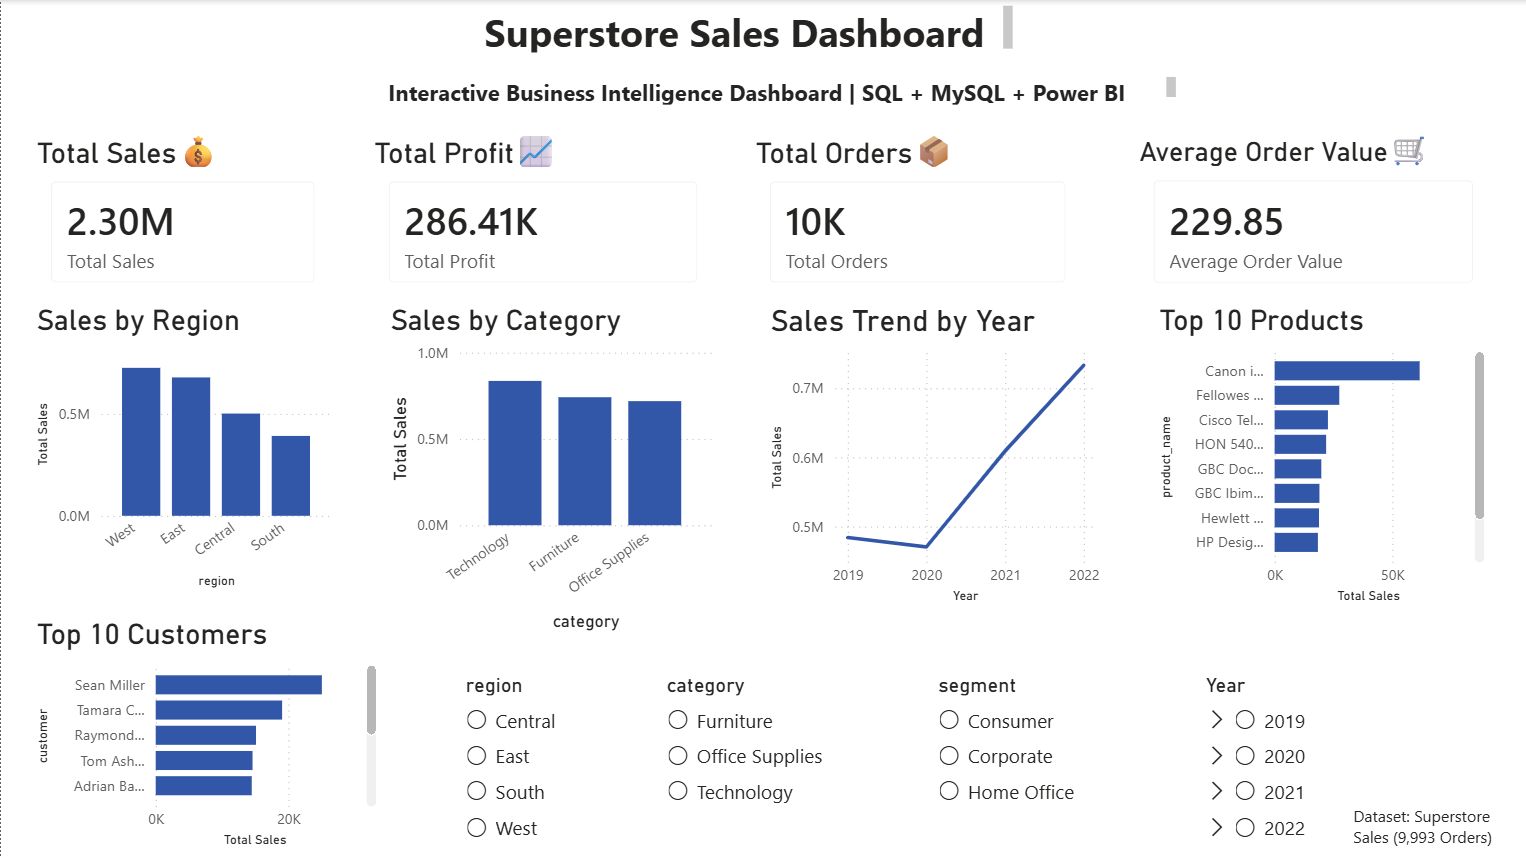

This screenshot's page, from the dashboard's own definition file:
{"tool":"powerbi","page":{"name":"Page 1","canvas":[1280,720],"ordinal":0},"visuals":[{"type":"cardVisual","title":"Total Sales","fields":{"Data":["cleaned_sales_dataSet.Total Sales"]},"box":[39.5,61.9,254.5,177.1],"z":0},{"type":"cardVisual","title":"Total Profit","fields":{"Data":["cleaned_sales_dataSet.Total Profit"]},"box":[319.8,61.9,282,149.6],"z":1000},{"type":"cardVisual","title":"Total Orders","fields":{"Data":["cleaned_sales_dataSet.Total Orders"]},"box":[622.5,58.5,282,149.6],"z":2000},{"type":"cardVisual","title":"Average Order Value","fields":{"Data":["cleaned_sales_dataSet.Average Order Value"]},"box":[949.2,58.5,300.9,158.2],"z":3000},{"type":"clusteredColumnChart","title":"Sales by Region","fields":{"Category":["cleaned_sales_dataSet.region"],"Y":["cleaned_sales_dataSet.Total Sales"]},"box":[25.4,237.9,257.3,243.9],"z":4000},{"type":"clusteredColumnChart","title":"Sales by Category","fields":{"Category":["cleaned_sales_dataSet.category"],"Y":["cleaned_sales_dataSet.Total Sales"]},"box":[321.6,237.9,279.8,279.8],"z":5000},{"type":"lineChart","title":"Sales Trend by Year","fields":{"Y":["cleaned_sales_dataSet.Total Sales"],"Category":["cleaned_sales_dataSet.order_date.Variation.Date Hierarchy.Year","cleaned_sales_dataSet.order_date.Variation.Date Hierarchy.Quarter","cleaned_sales_dataSet.order_date.Variation.Date Hierarchy.Month","cleaned_sales_dataSet.order_date.Variation.Date Hierarchy.Day"]},"box":[652.3,237.9,285.7,255.8],"z":6000},{"type":"clusteredBarChart","title":"Top 10 Products","fields":{"Category":["cleaned_sales_dataSet.product_name"],"Y":["cleaned_sales_dataSet.Total Sales"]},"box":[966.4,237.9,282.8,255.8],"z":7000},{"type":"clusteredBarChart","title":"Top 10 Customers","fields":{"Category":["cleaned_sales_dataSet.customer"],"Y":["cleaned_sales_dataSet.Total Sales"]},"box":[25.4,517.6,294.7,197.5],"z":8000},{"type":"listSlicer","fields":{"Values":["cleaned_sales_dataSet.region"]},"box":[381.5,543.1,103.2,172],"z":9000},{"type":"listSlicer","fields":{"Values":["cleaned_sales_dataSet.category"]},"box":[547.5,543.1,149.6,148.1],"z":10000},{"type":"listSlicer","fields":{"Values":["cleaned_sales_dataSet.segment"]},"box":[769,541.6,169.1,158.6],"z":11000},{"type":"listSlicer","fields":{"Values":["cleaned_sales_dataSet.order_date.Variation.Date Hierarchy.Year","cleaned_sales_dataSet.order_date.Variation.Date Hierarchy.Quarter","cleaned_sales_dataSet.order_date.Variation.Date Hierarchy.Month","cleaned_sales_dataSet.order_date.Variation.Date Hierarchy.Day"]},"box":[990.4,543.4,123.8,154.8],"z":12000},{"type":"textbox","box":[400.5,0,443.5,48.6],"z":13000}]}

Visuals, with their boxes in screenshot pixels (x1, y1, x2, y2), scaled from the page's 1280x720 canvas onto the 1526x857 screenshot:
"Total Sales" cardVisual: x1=47 y1=74 x2=351 y2=284
"Total Profit" cardVisual: x1=381 y1=74 x2=717 y2=252
"Total Orders" cardVisual: x1=742 y1=70 x2=1078 y2=248
"Average Order Value" cardVisual: x1=1132 y1=70 x2=1490 y2=258
"Sales by Region" clusteredColumnChart: x1=30 y1=283 x2=337 y2=573
"Sales by Category" clusteredColumnChart: x1=383 y1=283 x2=717 y2=616
"Sales Trend by Year" lineChart: x1=778 y1=283 x2=1118 y2=588
"Top 10 Products" clusteredBarChart: x1=1152 y1=283 x2=1489 y2=588
"Top 10 Customers" clusteredBarChart: x1=30 y1=616 x2=382 y2=851
listSlicer - cleaned_sales_dataSet.region: x1=455 y1=646 x2=578 y2=851
listSlicer - cleaned_sales_dataSet.category: x1=653 y1=646 x2=831 y2=823
listSlicer - cleaned_sales_dataSet.segment: x1=917 y1=645 x2=1118 y2=833
listSlicer - cleaned_sales_dataSet.order_date.Variation.Date Hierarchy.Year x cleaned_sales_dataSet.order_date.Variation.Date Hierarchy.Quarter: x1=1181 y1=647 x2=1328 y2=831
textbox: x1=477 y1=0 x2=1006 y2=58
